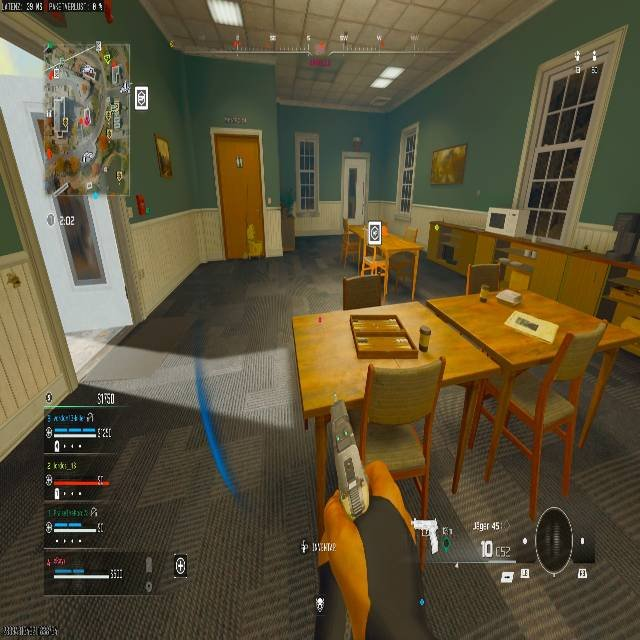player: (41, 126, 88, 265)
